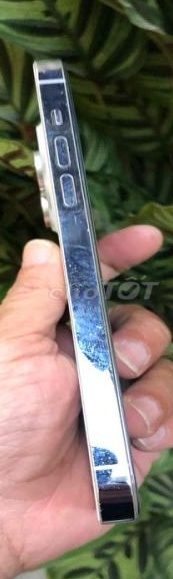scratch: (60, 239, 121, 374), (42, 129, 107, 234), (85, 415, 134, 510), (33, 56, 69, 111)
